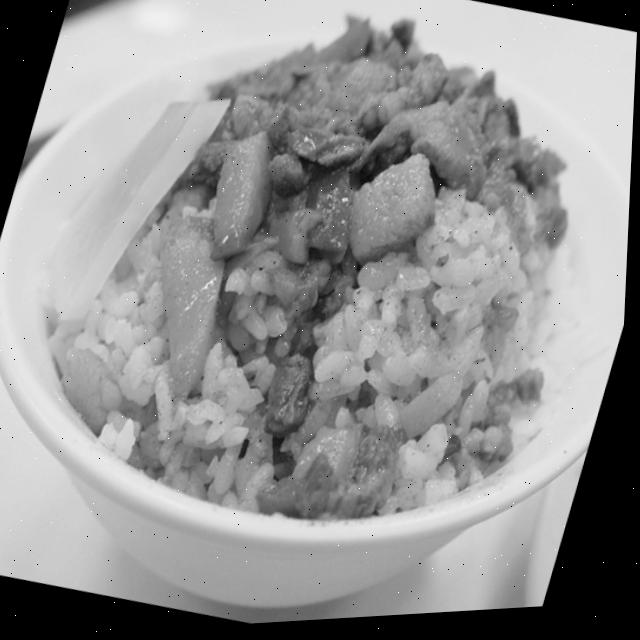猪肉菜式: (20, 0, 640, 601)
